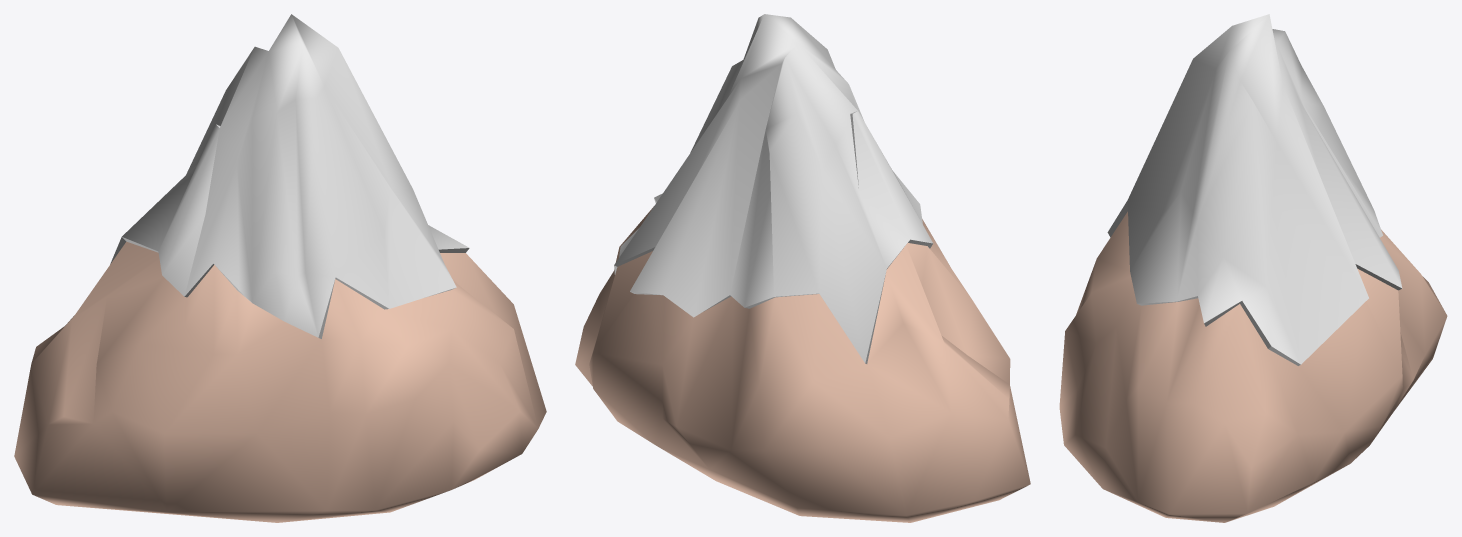
File: montagne.fbx
3 views of the same model, side by side, from view 1: azimuth 30°, elevation 25°; view 2: azimuth 150°, elevation 25°; view 3: azimuth 270°, elevation 25° (orthographic).
Visible parts, largest first — view 1: montagne:polySurface2; view 2: montagne:polySurface2; view 3: montagne:polySurface2.
Part boxes in pixels (x1,y1,x2,y2): montagne:polySurface2: (14, 14, 546, 522); montagne:polySurface2: (575, 14, 1030, 522); montagne:polySurface2: (1059, 14, 1447, 522).
Size of the model in its own units: 26.28 by 23.22 by 19.23.
